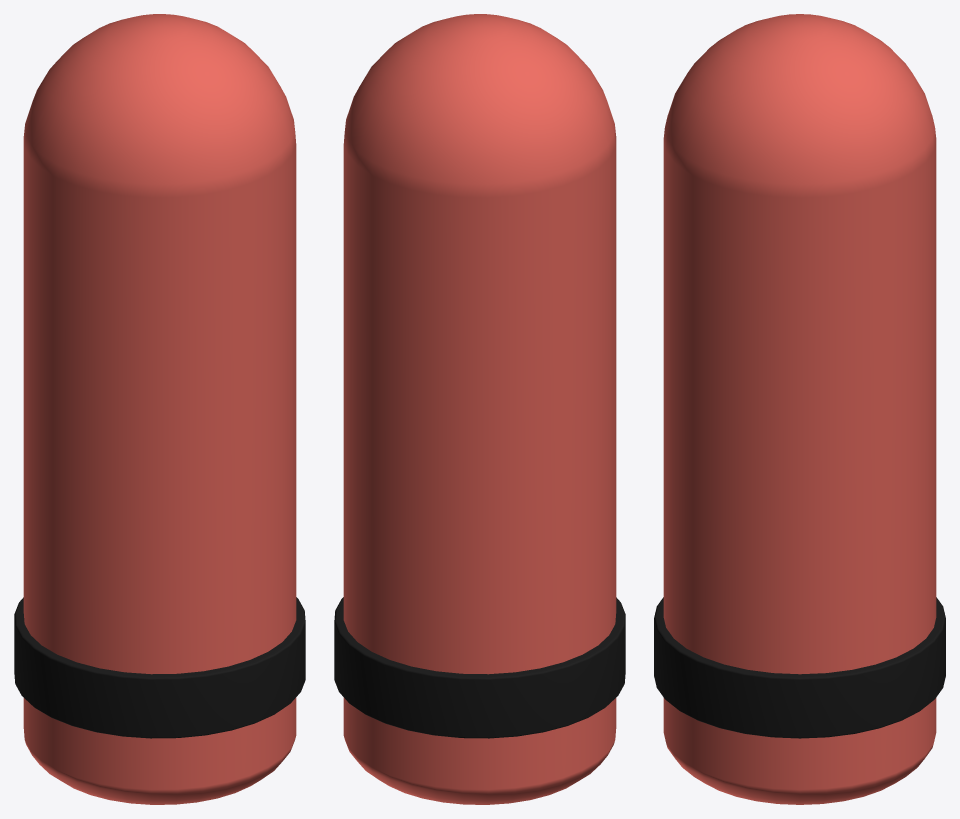
The model's file is SM_Extinguisher_01.fbx.
3 renders of one model, left to right at view 1: azimuth 30°, elevation 25°; view 2: azimuth 150°, elevation 25°; view 3: azimuth 270°, elevation 25°, orthographic.
Parts seen in each view (by area): view 1: Sphere, Sphere.002; view 2: Sphere, Sphere.002; view 3: Sphere, Sphere.002.
Boxes of the visible parts, box(x1,y1,x2,y2) form: Sphere: box(23, 14, 296, 804); Sphere.002: box(14, 597, 305, 738); Sphere: box(343, 14, 616, 804); Sphere.002: box(334, 597, 625, 738); Sphere: box(663, 14, 936, 804); Sphere.002: box(654, 597, 945, 738).
Bounding box in the file's own units: 27.62 × 76.94 × 27.62.
